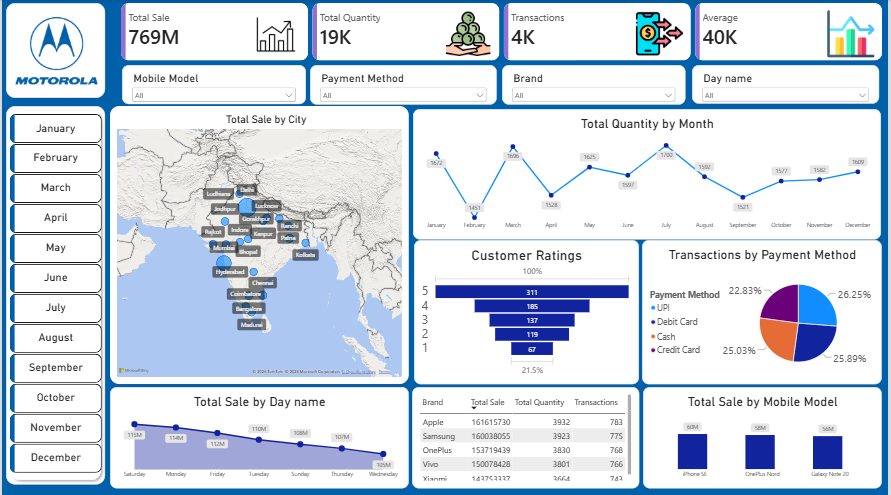

Layout of this report page (visuals, bound fields, positions):
{"tool":"powerbi","page":{"name":"Page 1","canvas":[1920,1080],"ordinal":0},"visuals":[{"type":"shape","box":[9.7,9.7,215.5,205.8],"z":0},{"type":"image","box":[27.1,24.3,180,177.1],"z":1000},{"type":"shape","box":[9.7,232.4,215.5,820.8],"z":2000},{"type":"advancedSlicerVisual","fields":{"Values":["Sales_Data.Date.Variation.Date Hierarchy.Month"]},"box":[17.3,249.4,199.5,789.4],"z":3000},{"type":"cardVisual","fields":{"Data":["Sales_Data.Total Sale","Sales_Data.Total Quantity","Sales_Data.Transactions","Sales_Data.Average"]},"box":[248.5,0,1670.7,142.1],"z":4000},{"type":"map","fields":{"Category":["Sales_Data.City"],"Size":["Sales_Data.Total Sale"]},"box":[235,232.5,647.5,602.5],"z":5000},{"type":"lineChart","fields":{"Category":["Sales_Data.Date.Variation.Date Hierarchy.Month","Sales_Data.Date.Variation.Date Hierarchy.Day"],"Y":["Sales_Data.Total Quantity"]},"box":[892,238,1015,282.5],"z":6000},{"type":"clusteredColumnChart","fields":{"Category":["Sales_Data.Mobile Model"],"Y":["Sales_Data.Total Sale"]},"box":[1390,842.5,517.5,220],"z":7000},{"type":"pieChart","fields":{"Category":["Sales_Data.Payment Method"],"Y":["Sales_Data.Transactions"]},"box":[1387.5,522.5,520,312.5],"z":8000},{"type":"funnel","title":"Customer Ratings","fields":{"Category":["Sales_Data.Customer Ratings"],"Y":["CountNonNull(Sales_Data.Customer Ratings)"]},"box":[892.5,522.5,487.5,312.5],"z":9000},{"type":"areaChart","fields":{"Category":["Sales_Data.Day name"],"Y":["Sales_Data.Total Sale"]},"box":[235,842.5,647.5,220],"z":10000},{"type":"tableEx","fields":{"Values":["Sales_Data.Brand","Sales_Data.Total Sale","Sales_Data.Total Quantity","Sales_Data.Transactions"]},"box":[890,842.5,492.5,220],"z":11000},{"type":"slicer","fields":{"Values":["Sales_Data.Mobile Model"]},"box":[260,143.8,398.8,85],"z":12000},{"type":"slicer","fields":{"Values":["Sales_Data.Payment Method"]},"box":[668.8,142.5,405,86.2],"z":12001},{"type":"slicer","fields":{"Values":["Sales_Data.Day name"]},"box":[1496,144,406,84],"z":12002},{"type":"slicer","fields":{"Values":["Sales_Data.Brand"]},"box":[1083.8,142.5,397.5,86.2],"z":12003}]}

Visuals, with their boxes in screenshot pixels (x1, y1, x2, y2), scaled from the page's 1920x1080 canvas onto the 891x495 screenshot:
shape: 5,4,105,99
image: 13,11,96,92
shape: 5,107,105,483
advancedSlicerVisual - Sales_Data.Date.Variation.Date Hierarchy.Month: 8,114,101,476
cardVisual - Sales_Data.Total Sale x Sales_Data.Total Quantity: 115,0,890,65
map - Sales_Data.City x Sales_Data.Total Sale: 109,107,410,383
lineChart - Sales_Data.Date.Variation.Date Hierarchy.Month x Sales_Data.Date.Variation.Date Hierarchy.Day: 414,109,885,239
clusteredColumnChart - Sales_Data.Mobile Model x Sales_Data.Total Sale: 645,386,885,487
pieChart - Sales_Data.Payment Method x Sales_Data.Transactions: 644,239,885,383
"Customer Ratings" funnel: 414,239,640,383
areaChart - Sales_Data.Day name x Sales_Data.Total Sale: 109,386,410,487
tableEx - Sales_Data.Brand x Sales_Data.Total Sale: 413,386,642,487
slicer - Sales_Data.Mobile Model: 121,66,306,105
slicer - Sales_Data.Payment Method: 310,65,498,105
slicer - Sales_Data.Day name: 694,66,883,104
slicer - Sales_Data.Brand: 503,65,687,105
